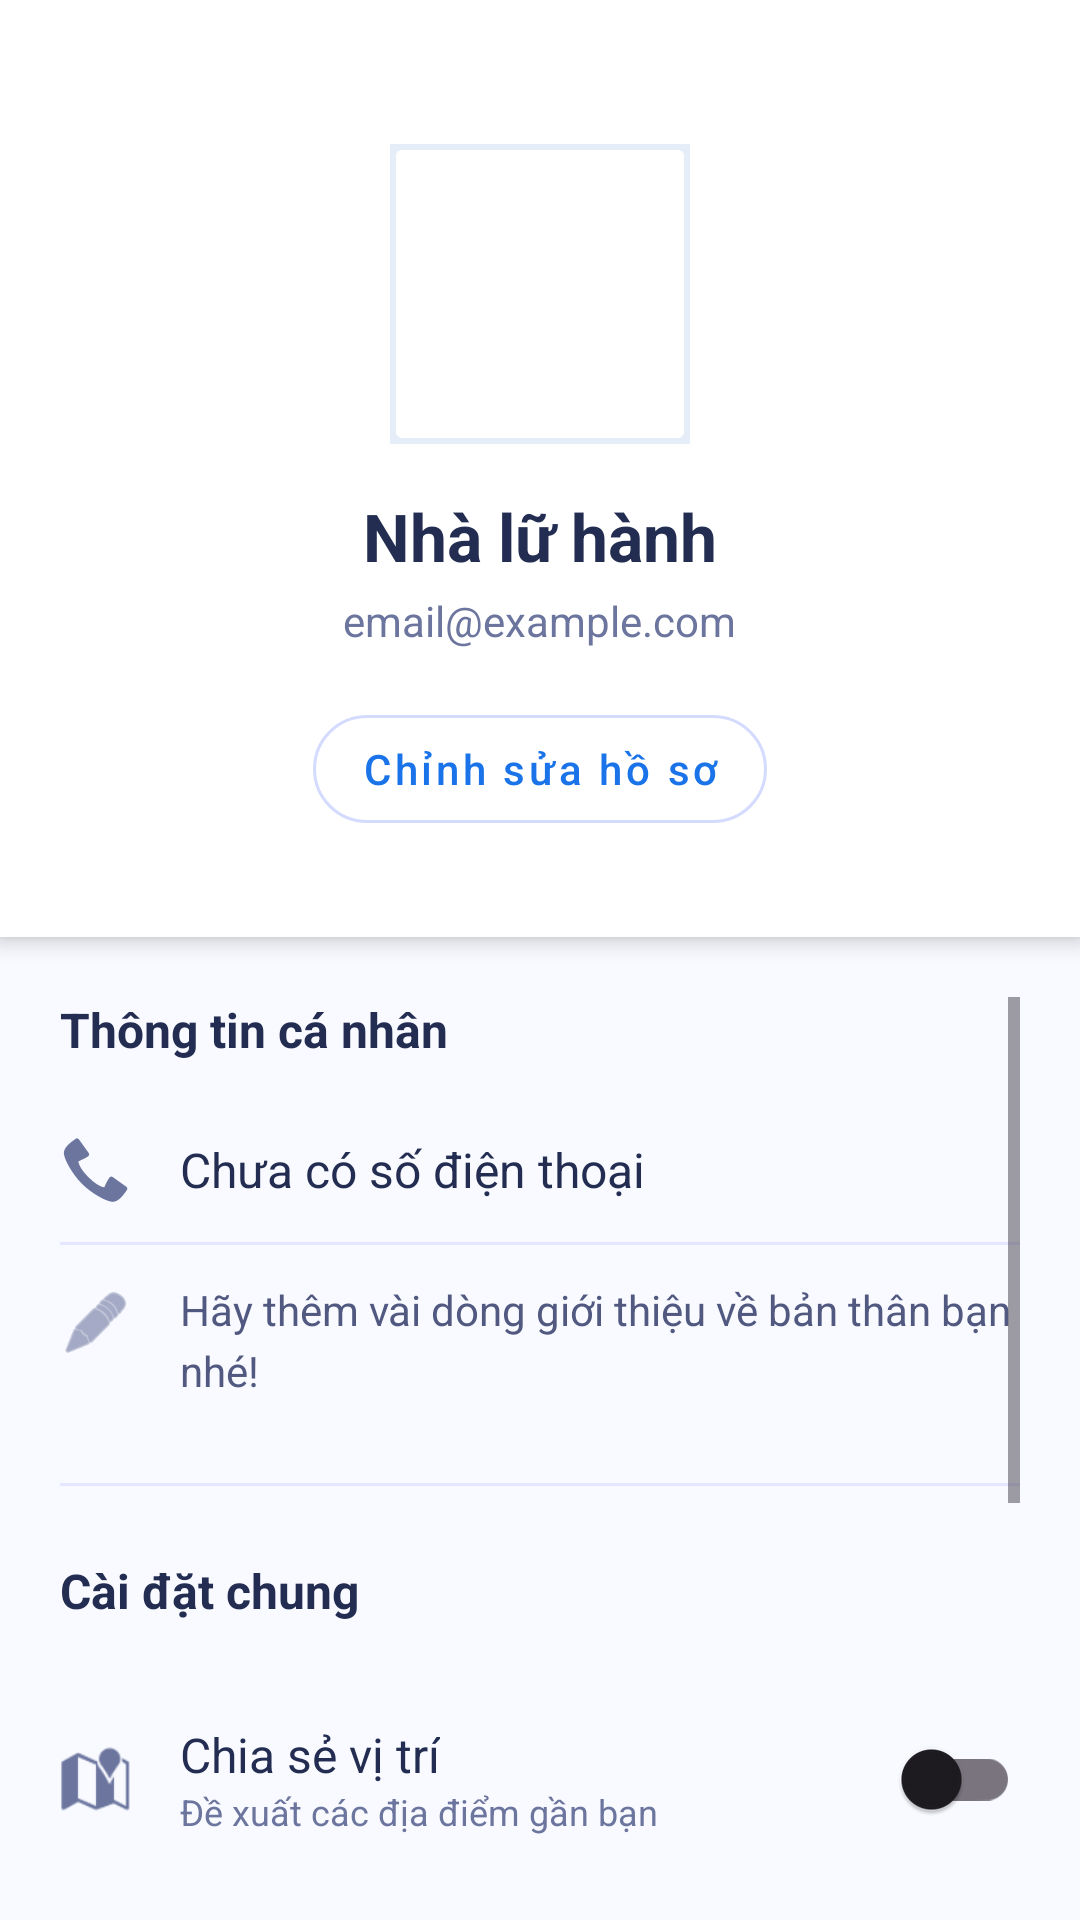

Icon click points for this 1080px×1920px phone screenshot, format point (x, y):
edit: point (95, 1322)
map: point (95, 1779)
phone call: point (96, 1170)
